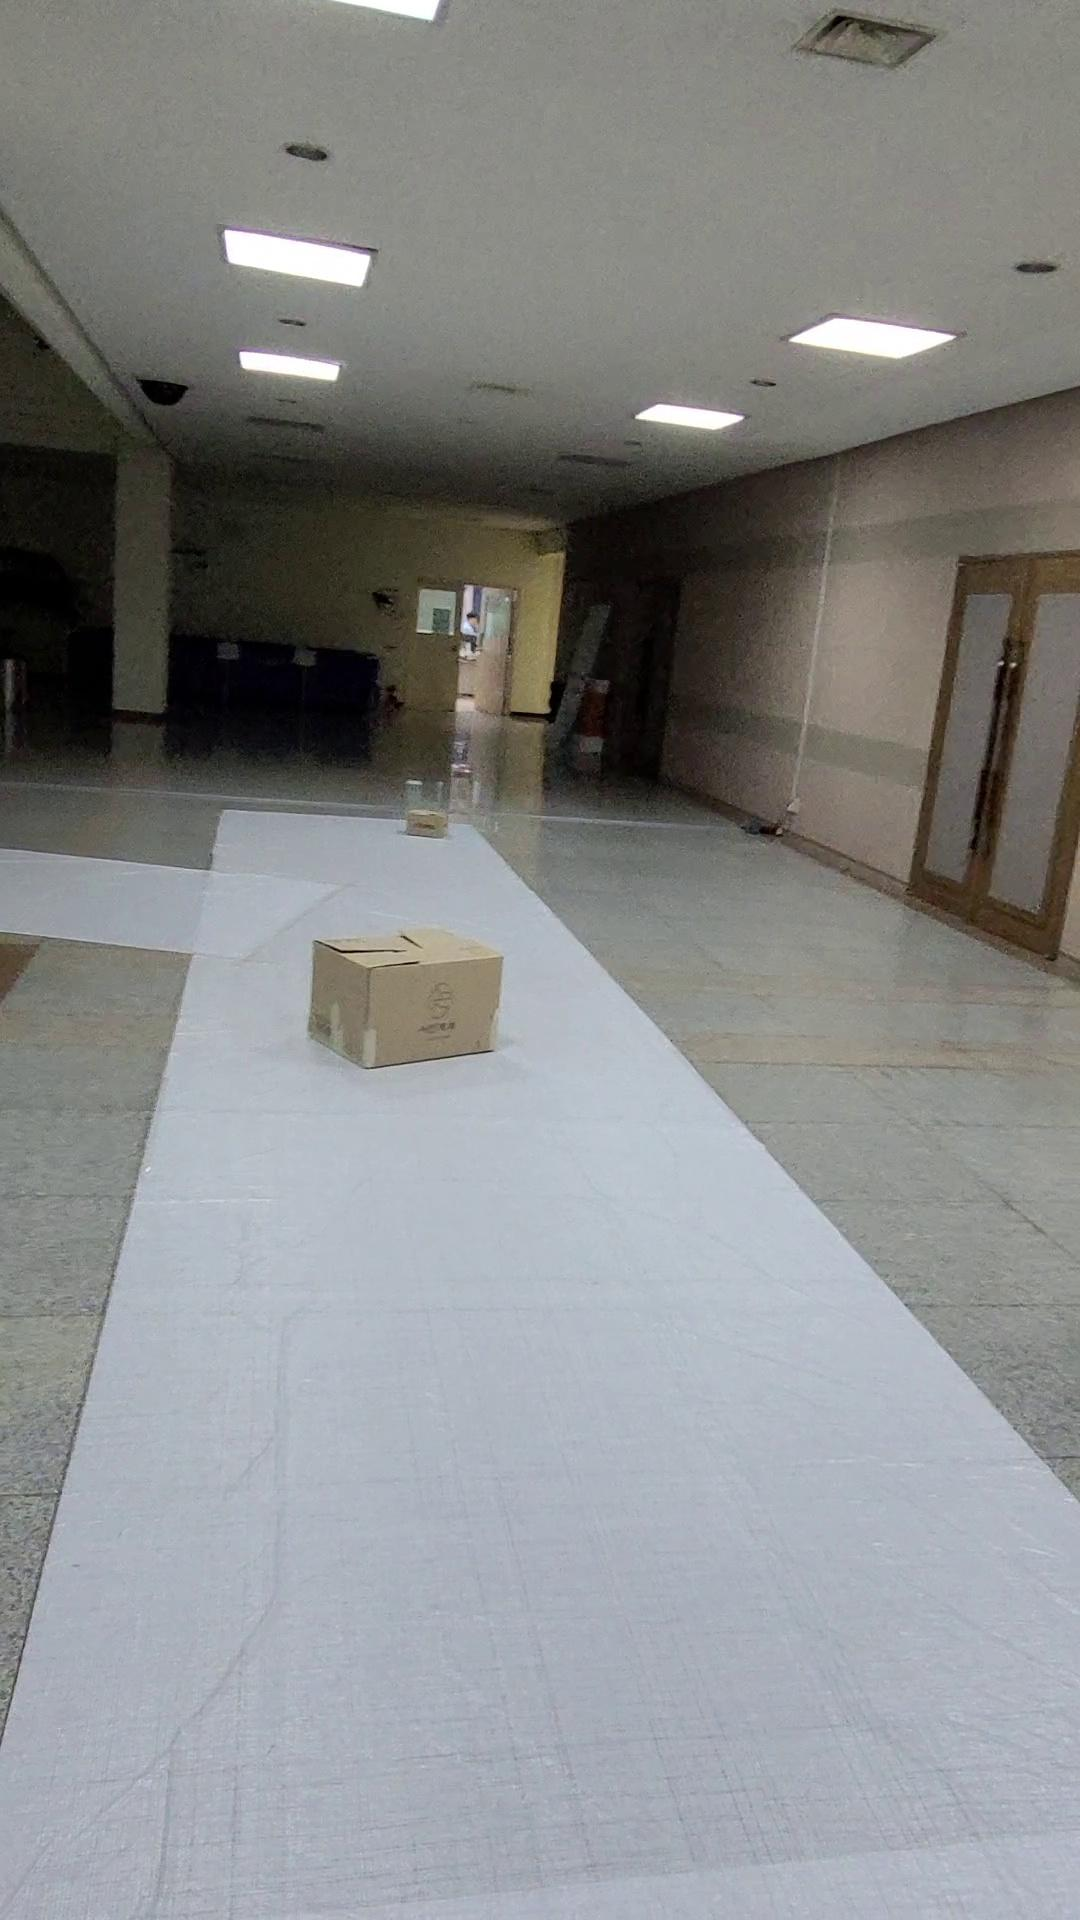Box: (286, 903, 535, 1108), (386, 785, 460, 865)
